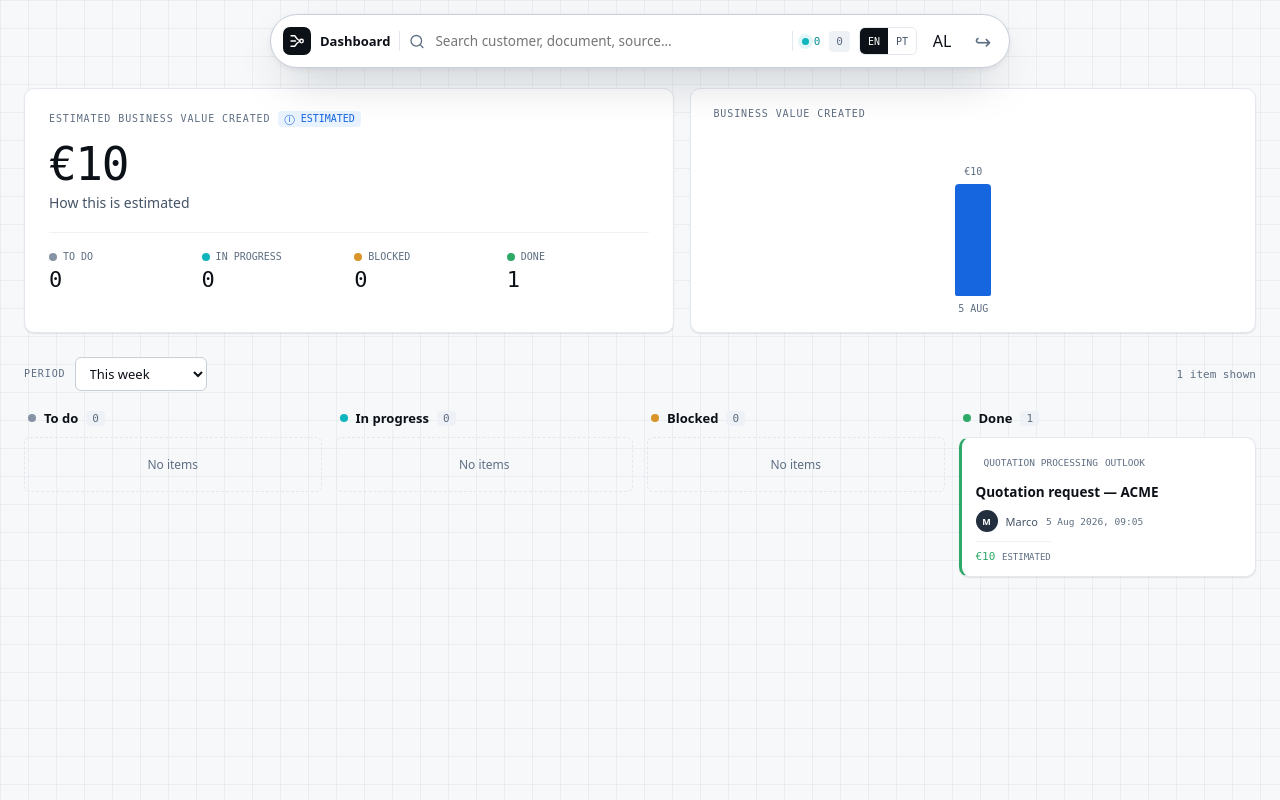
Platform v1 Dashboard › stays signed in and says so when sign-out fails
Check: the text "Quotation request — ACME" is shown, box left=976, top=483, right=1158, bottom=501
What coordinates should you click on to do the following:
click the button named "Sign out"
I would click on:
 (983, 41)
Its box is left=967, top=25, right=999, bottom=57.
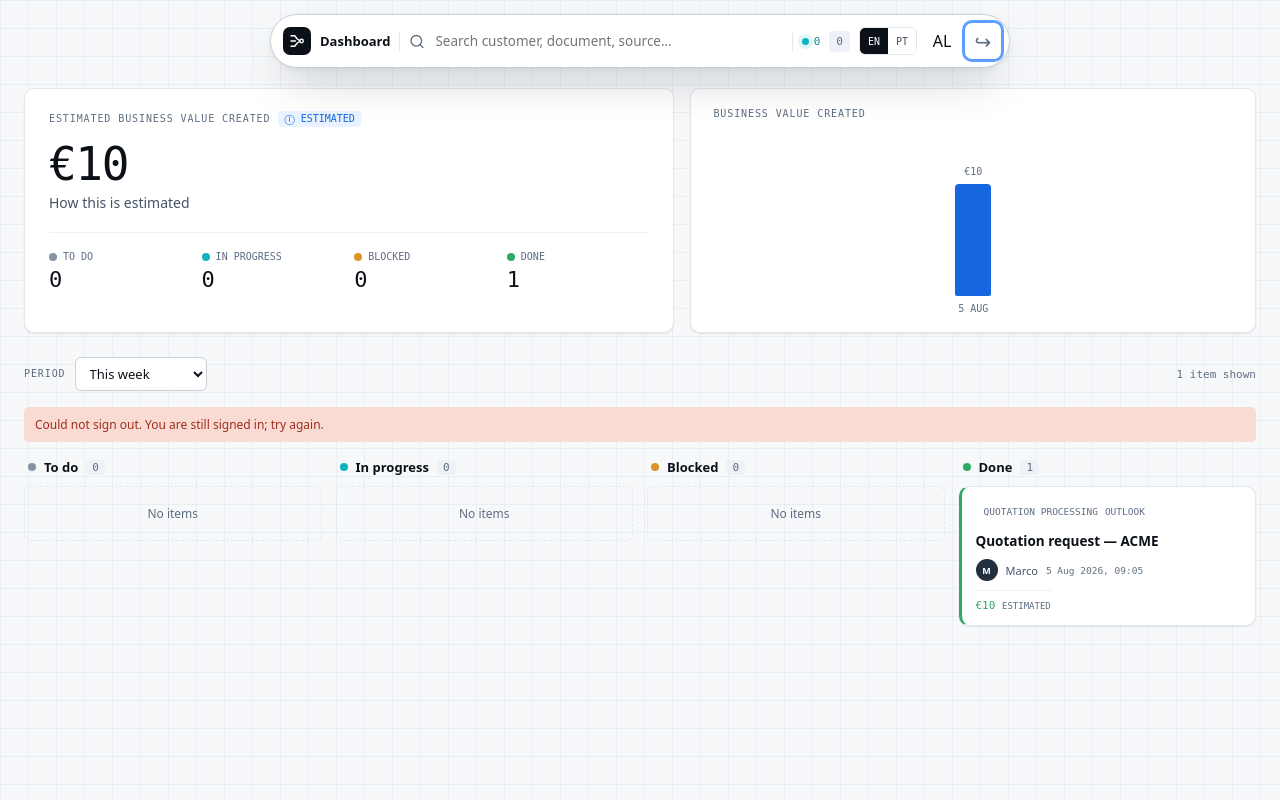
Check: the text "Quotation request — ACME" is shown, box left=976, top=532, right=1158, bottom=550
Check: the text "Could not sign out. You are still signed in; try again." is shown, box left=24, top=407, right=1256, bottom=442
